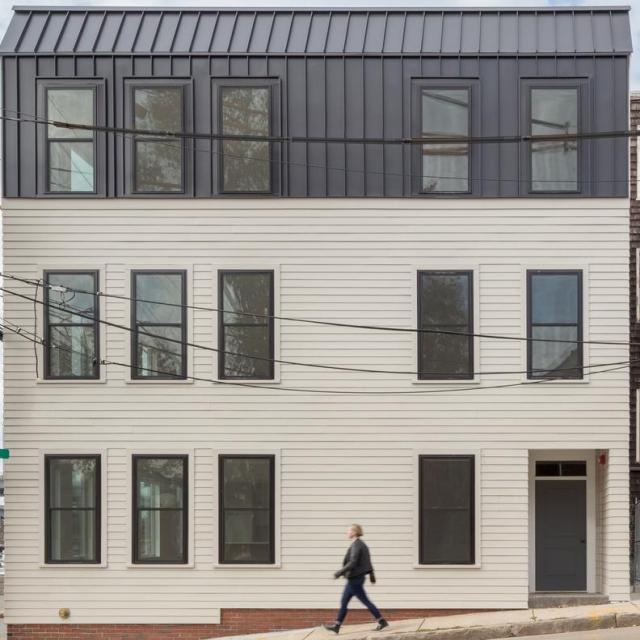door: (535, 480, 590, 593)
window: (221, 83, 279, 194), (43, 454, 101, 564), (415, 452, 473, 562), (127, 82, 184, 193), (525, 82, 582, 193), (41, 269, 98, 380), (128, 268, 185, 379), (128, 453, 185, 564), (223, 454, 280, 565), (42, 83, 99, 193), (414, 81, 471, 191), (220, 270, 277, 380), (524, 269, 581, 379), (418, 269, 473, 380)
